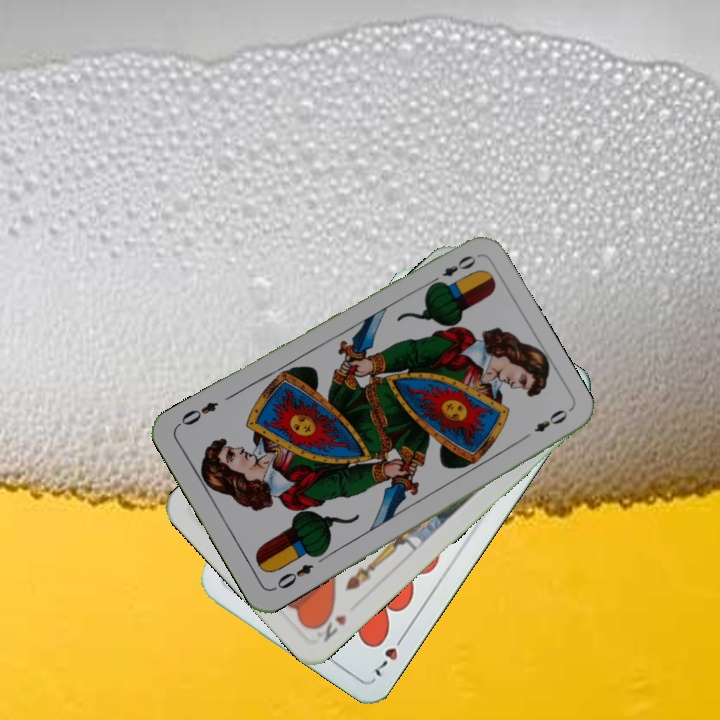EO: (425, 251, 479, 289), (269, 560, 316, 593)
H7: (370, 628, 409, 680)
HK: (309, 605, 350, 645)
